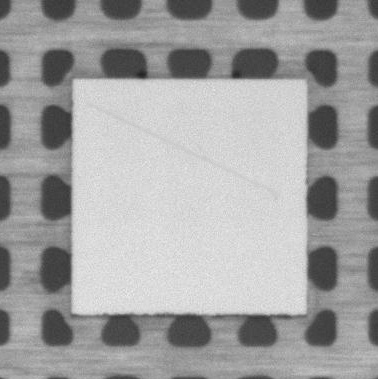DIE_CRACK: (87, 103, 277, 195)
